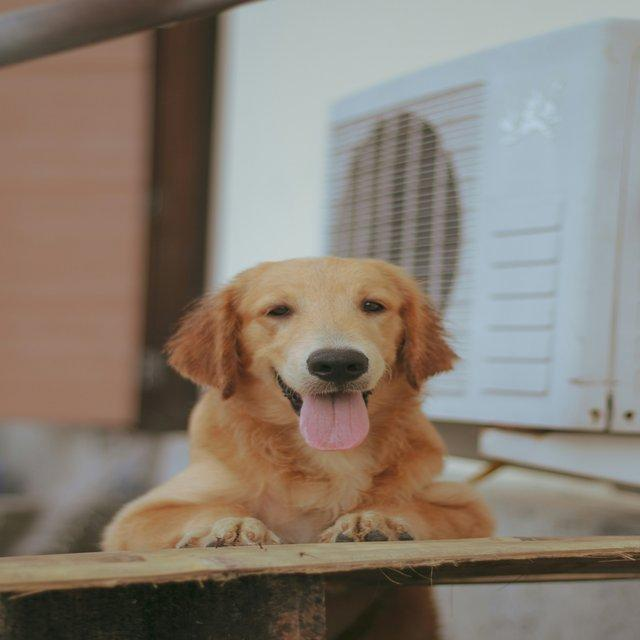retriever: (99, 254, 495, 551)
